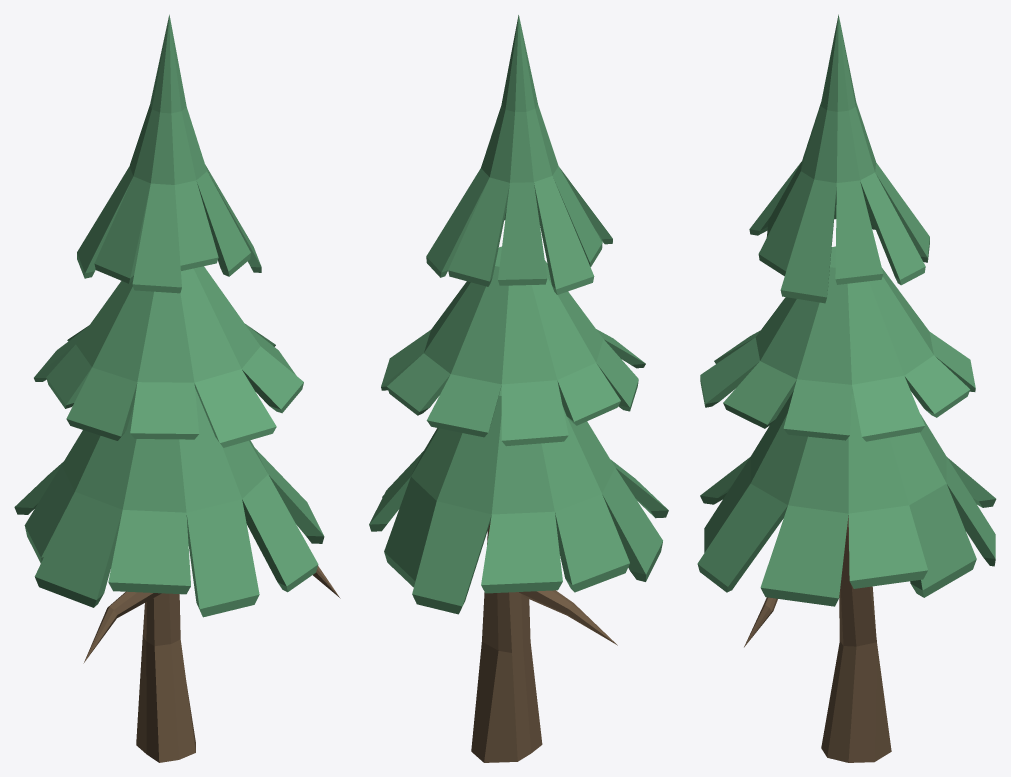
Rendered from Tree_Pine.fbx.
The picture shows the model from 3 angles, left to right: view 1: azimuth 30°, elevation 25°; view 2: azimuth 150°, elevation 25°; view 3: azimuth 270°, elevation 25°; orthographic projection.
Visible parts, largest first — view 1: polySurface8; view 2: polySurface8; view 3: polySurface8.
Boxes of the visible parts, x1=… form: polySurface8: x1=14, y1=14, x2=340, y2=762; polySurface8: x1=369, y1=15, x2=668, y2=762; polySurface8: x1=697, y1=14, x2=996, y2=762.
Size of the model in its own units: 98.3 by 258 by 95.14.
